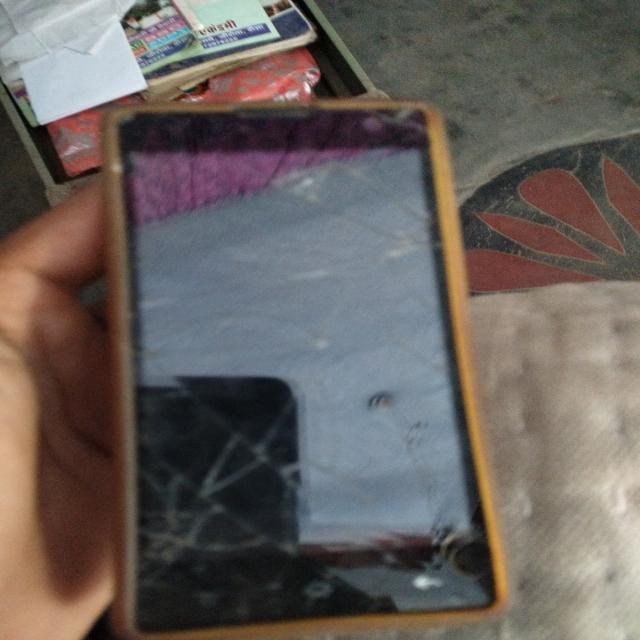screen crack: (107, 106, 490, 618)
